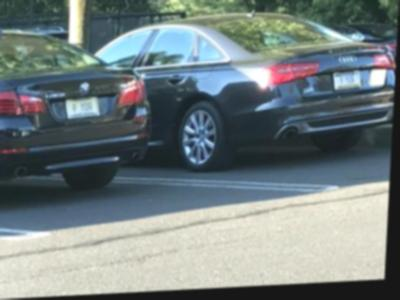License_Plate: (68, 94, 99, 120)
